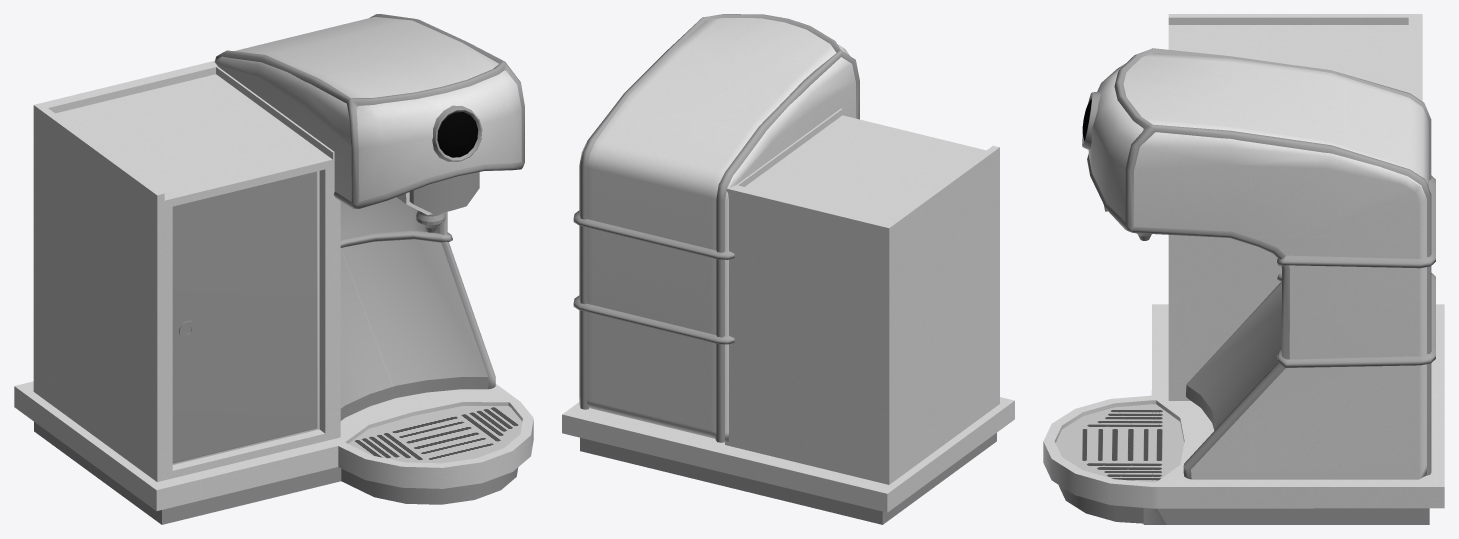
File: coffee_machine_29_coffee_machine_29.obj
3 views of the same model, side by side, from view 1: azimuth 30°, elevation 25°; view 2: azimuth 150°, elevation 25°; view 3: azimuth 270°, elevation 25° (orthographic). The views are drawn at different scales.
Bounding box in the file's own units: 0.4341 × 0.4519 × 0.4033.
